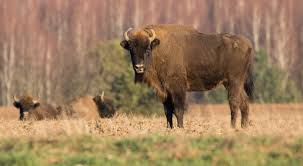zubr: (116, 20, 270, 126), (58, 85, 119, 125), (10, 91, 67, 127)
